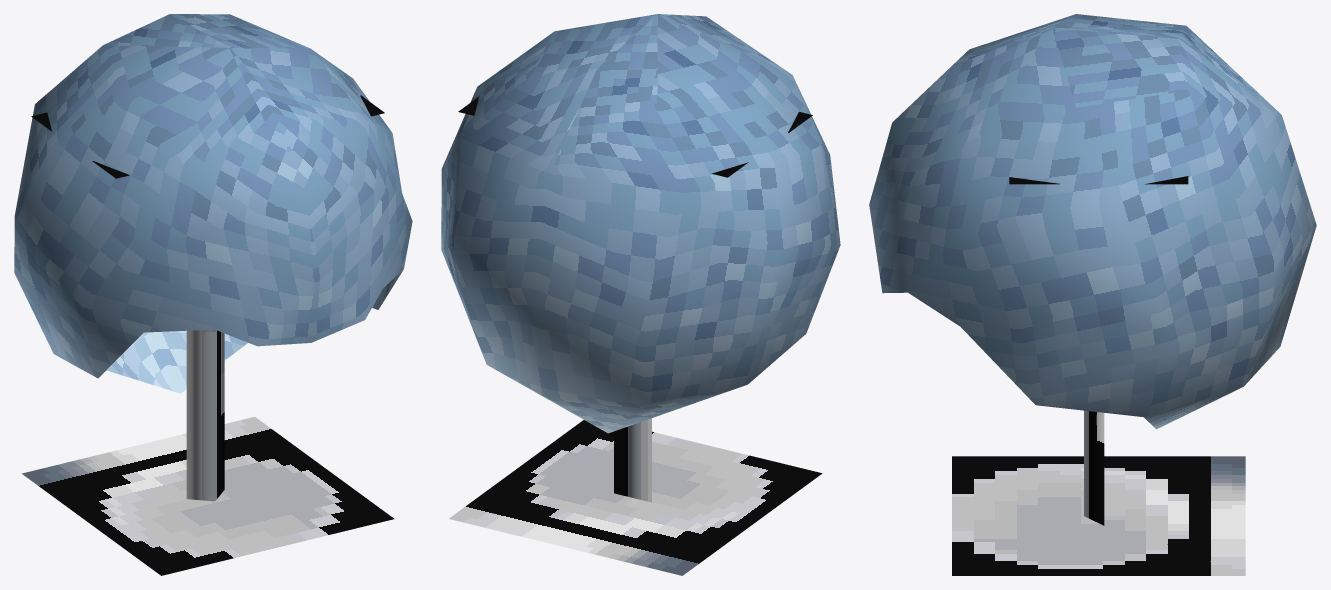
The picture shows the model from 3 angles, left to right: view 1: azimuth 30°, elevation 25°; view 2: azimuth 150°, elevation 25°; view 3: azimuth 270°, elevation 25°; orthographic projection. The views are drawn at different scales.
Visible parts, largest first — view 1: 2912head045_c; view 2: 2912head045_c; view 3: 2912head045_c.
Part boxes in pixels (bbox=[...]): 2912head045_c: bbox=[14, 14, 412, 575]; 2912head045_c: bbox=[441, 14, 840, 575]; 2912head045_c: bbox=[869, 14, 1316, 575].
Size of the model in its own units: 0.7017 by 0.8879 by 0.7312.
2 materials, 2 textured.
